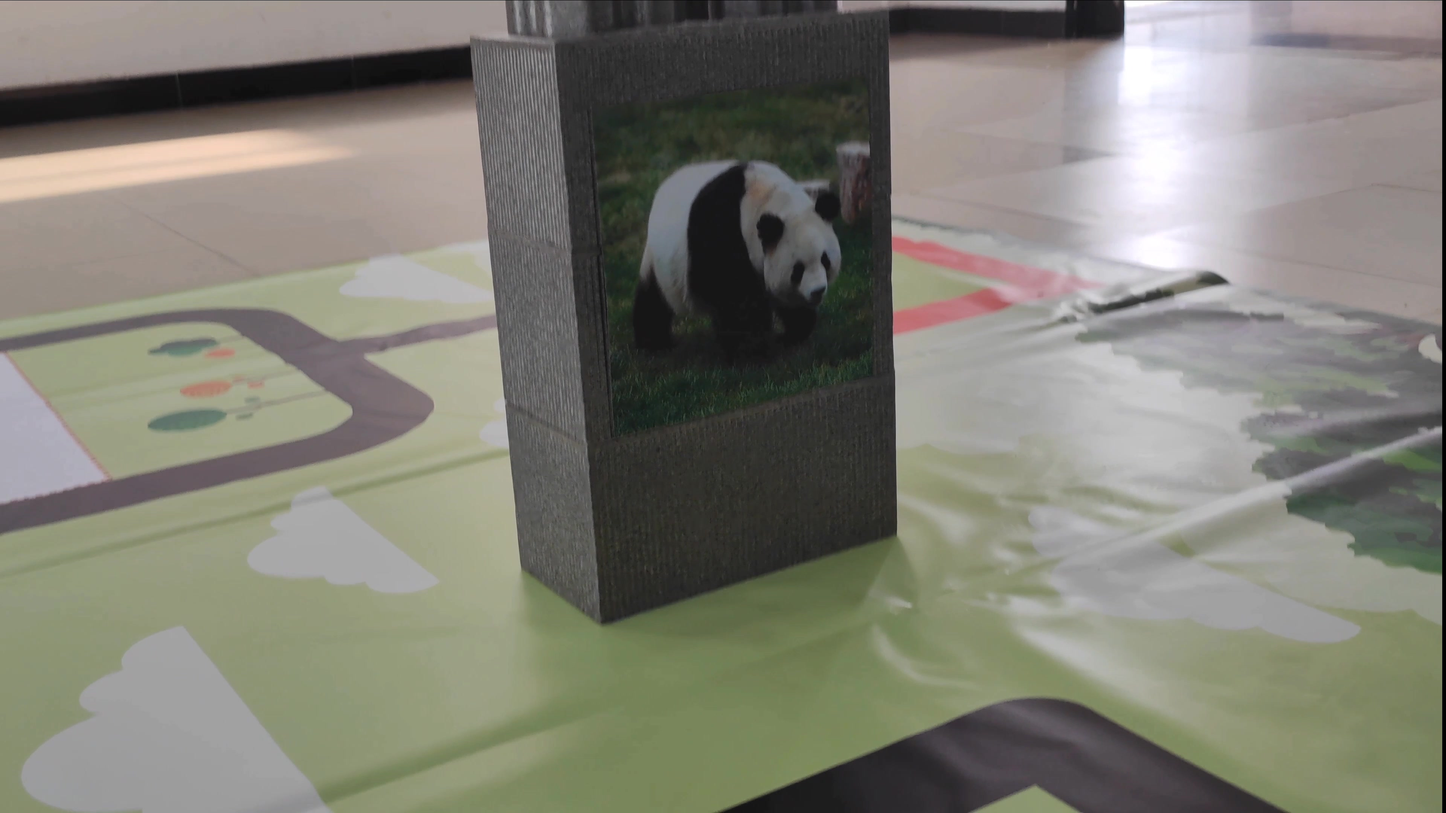panda: (616, 145, 860, 344)
